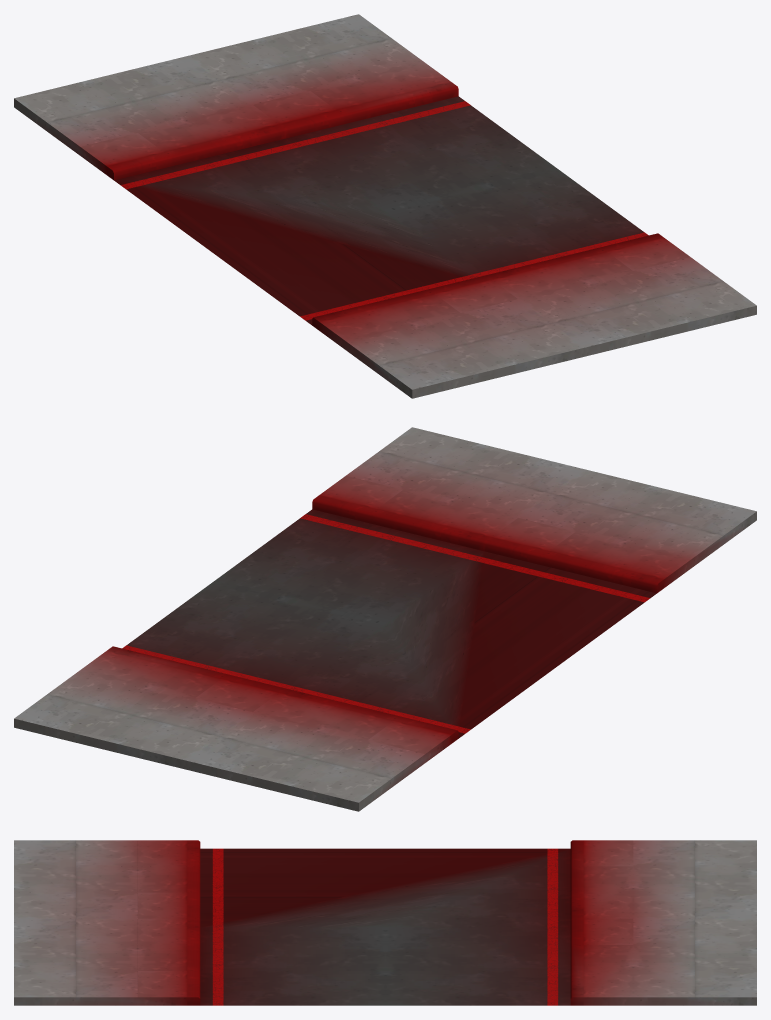
The model's file is Street_2Lane.glb.
The picture shows the model from 3 angles, top to bottom: view 1: azimuth 30°, elevation 25°; view 2: azimuth 150°, elevation 25°; view 3: azimuth 270°, elevation 25°; orthographic projection. The views are drawn at different scales.
Visible parts, largest first — view 1: Street_2Lane; view 2: Street_2Lane; view 3: Street_2Lane.
Part boxes in pixels (left/top/right/bottom): Street_2Lane: left=14, top=14, right=756, bottom=398; Street_2Lane: left=14, top=427, right=756, bottom=811; Street_2Lane: left=14, top=840, right=756, bottom=1005.
Bounding box in the file's own units: 6 × 0.1502 × 12.
3 materials, 3 textured.
